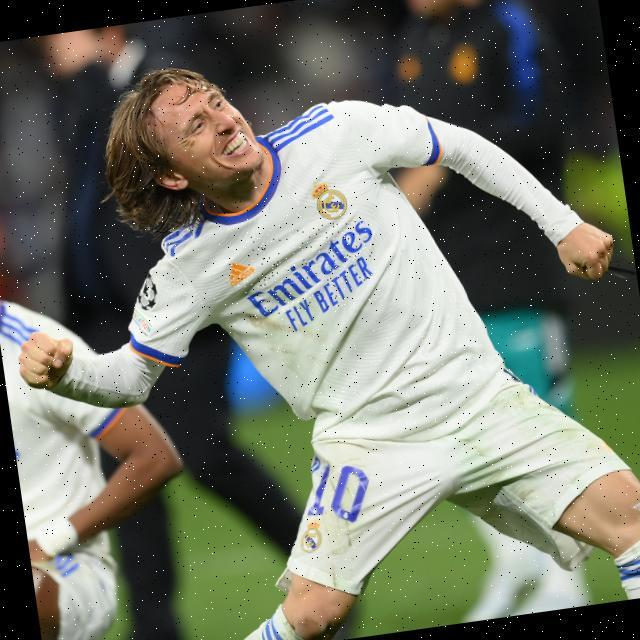Adidas: (228, 260, 258, 290)
Emirates: (238, 218, 382, 320)
